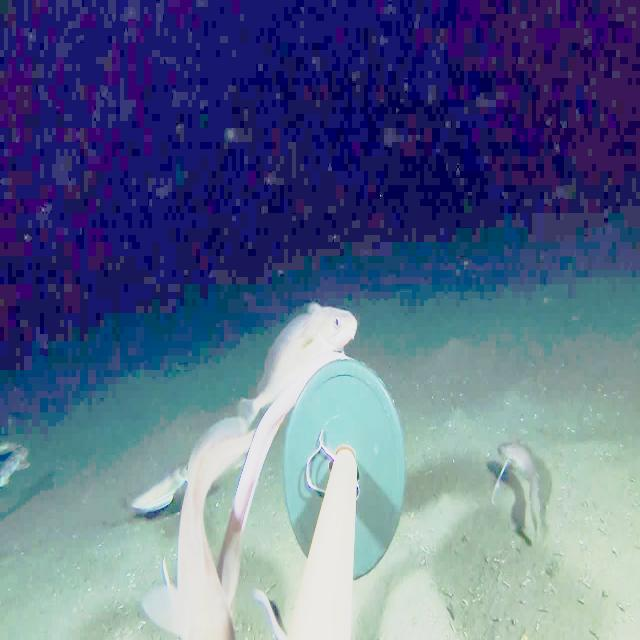eel: (210, 344, 352, 627), (242, 576, 292, 639)
fish: (154, 412, 238, 636), (249, 299, 361, 405), (489, 428, 559, 544), (115, 452, 192, 526), (1, 424, 45, 503)
pole: (283, 402, 398, 571)
